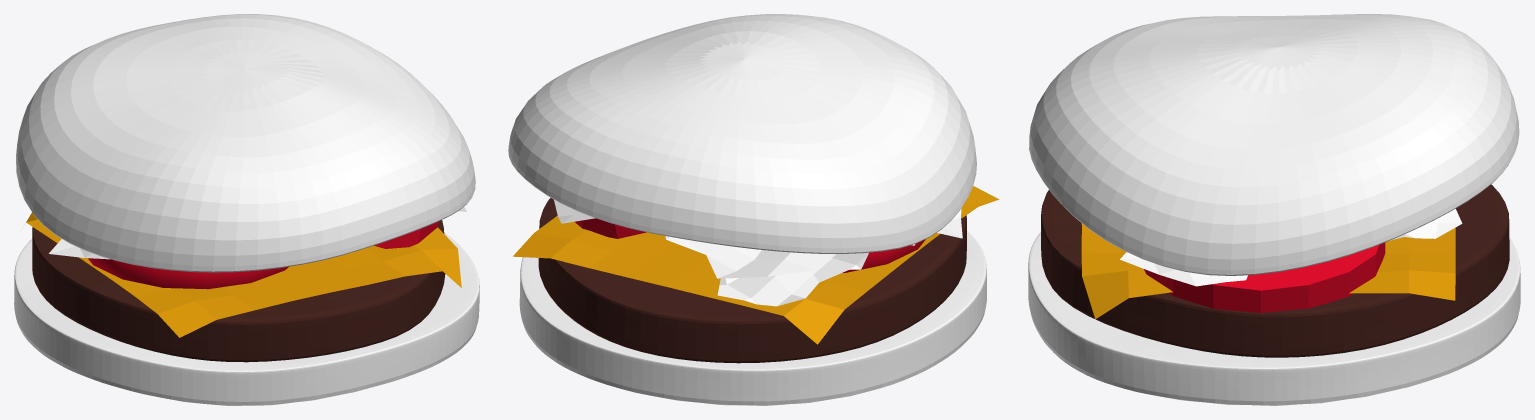
Rendered from burger-embedded.gltf.
3 views of the same model, side by side, from view 1: azimuth 30°, elevation 25°; view 2: azimuth 150°, elevation 25°; view 3: azimuth 270°, elevation 25° (orthographic). The views are drawn at different scales.
Parts seen in each view (by area): view 1: up bread.001, low bread, steqk, cheese, Cylinder, Cylinder.001, Grid.001; view 2: up bread.001, steqk, low bread, cheese, Grid.001, Grid, Cylinder.001, Cylinder; view 3: up bread.001, low bread, steqk, cheese, Cylinder.001, Grid.002, Grid.
Part boxes in pixels (x1,y1,x2,y2): up bread.001: (16,14,475,272); low bread: (14,232,479,405); steqk: (32,220,445,362); cheese: (26,212,461,337); Cylinder: (88,258,288,289); Cylinder.001: (374,221,438,248); Grid.001: (49,239,110,259); up bread.001: (508,14,976,253); steqk: (538,197,966,363); low bread: (519,231,986,405); cheese: (513,186,999,344); Grid.001: (717,208,962,306); Grid: (554,199,833,278); Cylinder.001: (574,218,646,238); Cylinder: (842,239,925,272); up bread.001: (1029,14,1519,275); low bread: (1028,232,1520,405); steqk: (1041,184,1509,357); cheese: (1081,223,1455,319); Cylinder.001: (1144,242,1385,312); Grid.002: (1120,252,1247,286); Grid: (1390,209,1462,240).
Bounding box in the file's own units: 0.2019 × 0.1176 × 0.1982.
6 materials, 3 textured.
